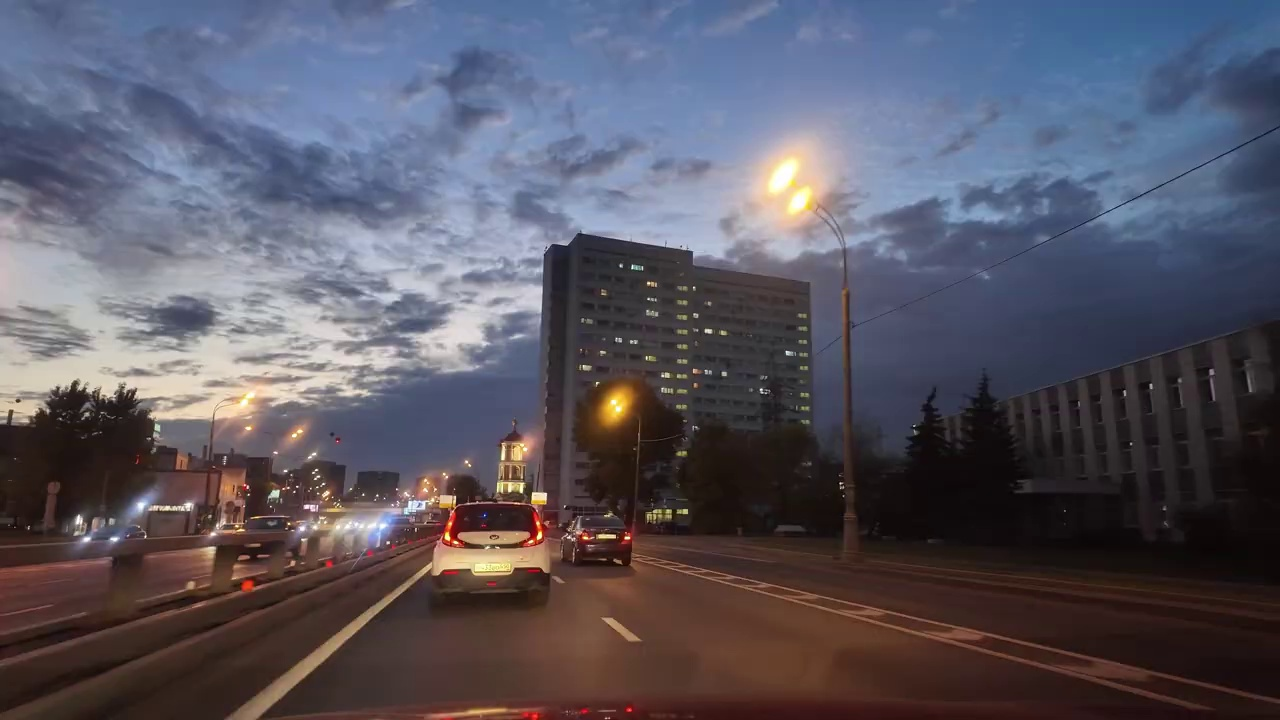acesa: (762, 154, 814, 214), (594, 385, 637, 434)
